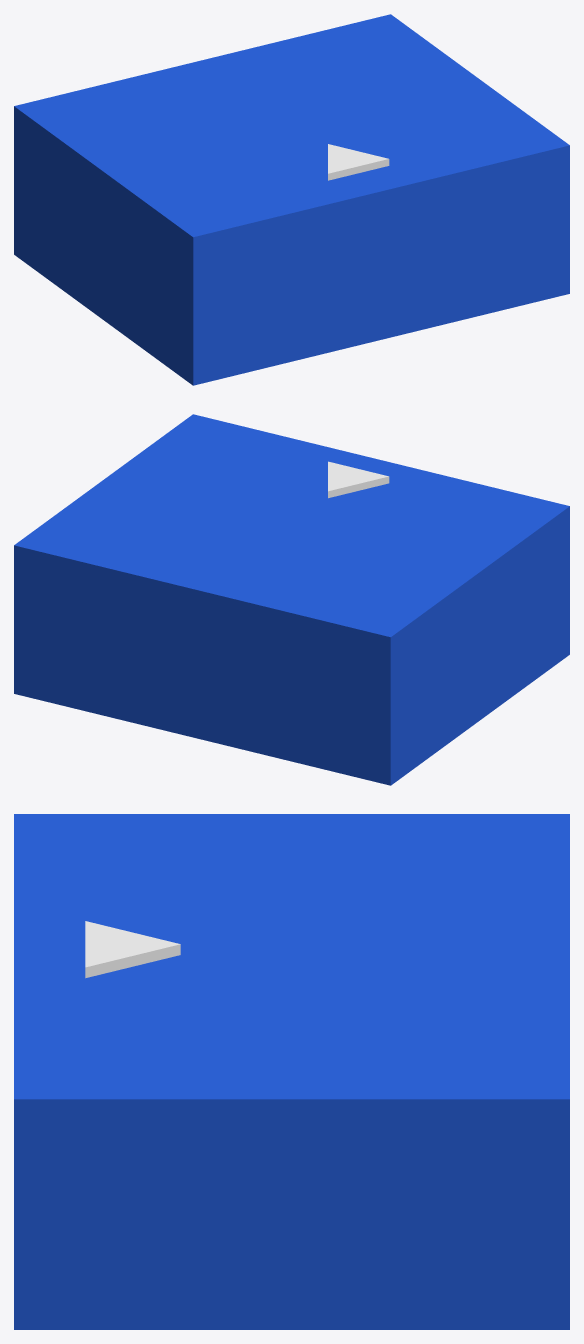
The model's file is chassis.glb.
3 renders of one model, top to bottom at view 1: azimuth 30°, elevation 25°; view 2: azimuth 150°, elevation 25°; view 3: azimuth 270°, elevation 25°, orthographic. The views are drawn at different scales.
Visible parts, largest first — view 1: chassis.body, chassis.front; view 2: chassis.body, chassis.front; view 3: chassis.body, chassis.front.
Boxes of the visible parts, left/top/right/bottom form: chassis.body: left=14, top=14, right=569, bottom=385; chassis.front: left=328, top=144, right=389, bottom=180; chassis.body: left=14, top=414, right=569, bottom=785; chassis.front: left=328, top=461, right=389, bottom=498; chassis.body: left=14, top=814, right=569, bottom=1329; chassis.front: left=85, top=921, right=180, bottom=978.
Bounding box in the file's own units: 0.85 × 0.3375 × 0.7.
